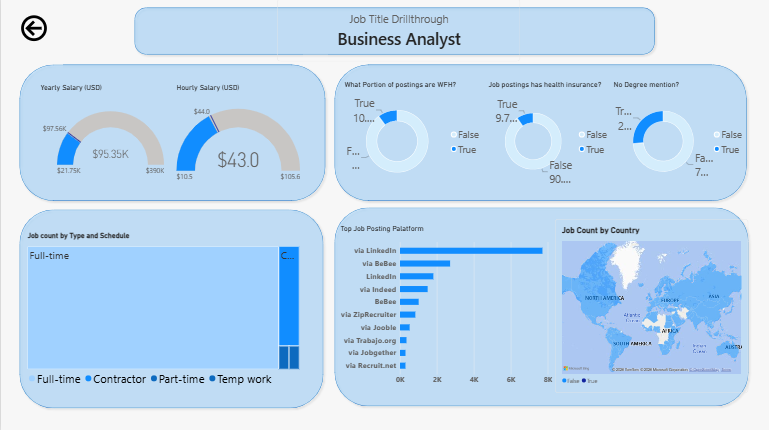

The dashboard page shown, as its layout file describes it:
{"tool":"powerbi","page":{"name":"Job Drillthrough","canvas":[1920,1080],"ordinal":1},"visuals":[{"type":"shape","box":[324.9,14.8,1318.1,135.2],"z":0,"group":"g4"},{"type":"actionButton","box":[7.5,17.5,150,115],"z":0},{"type":"shape","box":[825.1,156.7,1047.9,358.7],"z":0,"group":"g5"},{"type":"group","id":"g1","title":"Group 4","box":[825.1,515.4,1052.8,514.6],"z":0,"group":"g2"},{"type":"group","id":"g2","title":"Group 8","box":[36.9,156.7,1841.1,876],"z":1000},{"type":"group","id":"g3","title":"Group 6","box":[36.9,156.7,783.4,876],"z":1000,"group":"g2"},{"type":"shape","box":[36.9,518.1,777.4,514.6],"z":1000,"group":"g9"},{"type":"group","id":"g4","title":"Group 9","box":[324.9,1.5,1318.1,156.2],"z":2000},{"type":"shape","box":[38,156.7,782.3,358.7],"z":2000,"group":"g3"},{"type":"group","id":"g5","title":"Group 7","box":[825.1,156.7,1052.8,358.7],"z":2000,"group":"g2"},{"type":"gauge","title":"Yearly Salary (USD)","fields":{"MaxValue":["Max(job_postings_flat.salary_year_avg)"],"MinValue":["Min(job_postings_flat.salary_year_avg)1"],"Y":["Median(job_postings_flat.salary_year_avg)2"],"TargetValue":["Avg(job_postings_flat.salary_year_avg)3"]},"box":[83.1,198.9,341.2,296.9],"z":3000,"group":"g6"},{"type":"shape","box":[825.1,515.4,1052.8,514.6],"z":3000,"group":"g1"},{"type":"cardVisual","fields":{"Data":["Min(job_postings_flat.job_title_short)"]},"box":[689.9,1.5,608.8,156.2],"z":4000,"group":"g4"},{"type":"gauge","title":"Hourly Salary (USD)","fields":{"Y":["Median(job_postings_flat.salary_hour_avg)"],"MinValue":["Min(job_postings_flat.salary_hour_avg)1"],"MaxValue":["Max(job_postings_flat.salary_hour_avg)2"],"TargetValue":["Avg(job_postings_flat.salary_hour_avg)3"]},"box":[424.3,198.9,341.2,296.9],"z":4000,"group":"g6"},{"type":"donutChart","title":"What Portion of postings are WFH?","fields":{"Category":["job_postings_flat.job_work_from_home"],"Y":["CountNonNull(job_postings_flat.job_work_from_home)"]},"box":[842.2,191.3,377,296.1],"z":5000,"group":"g7"},{"type":"donutChart","title":"No Degree mention?","fields":{"Category":["job_postings_flat.job_no_degree_mention"],"Y":["CountNonNull(job_postings_flat.job_no_degree_mention)"]},"box":[1515.8,192.1,362.2,296.1],"z":6000,"group":"g7"},{"type":"treemap","title":"Job count by Type and Schedule","fields":{"Group":["job_postings_flat.job_schedule_type"],"Values":["CountNonNull(job_postings_flat.job_schedule_type)"]},"box":[49.1,567.6,711.6,418.1],"z":6000,"group":"g9"},{"type":"donutChart","title":"Job postings has health insurance?","fields":{"Category":["job_postings_flat.job_health_insurance"],"Y":["CountNonNull(job_postings_flat.job_health_insurance)"]},"box":[1202.8,191.3,337.2,296.1],"z":7000,"group":"g7"},{"type":"filledMap","title":"Job Count by Country","fields":{"Category":["job_postings_flat.job_country"],"Series":["job_postings_flat.job_no_degree_mention"]},"box":[1384.2,551.7,482.5,435],"z":7000,"group":"g8"},{"type":"barChart","title":"Top Job Posting Palatform","fields":{"Category":["job_postings_flat.job_via"],"Y":["CountNonNull(job_postings_flat.job_via)"]},"box":[831.7,551.7,561.5,434.8],"z":8000,"group":"g8"},{"type":"group","id":"g6","title":"Group 1","box":[83.1,198.9,682.4,296.9],"z":9000,"group":"g3"},{"type":"group","id":"g7","title":"Group 2","box":[842.2,191.3,1035.8,296.9],"z":10000,"group":"g5"},{"type":"group","id":"g8","title":"Group 3","box":[831.7,551.7,1035,435],"z":10001,"group":"g1"},{"type":"group","id":"g9","title":"Group 5","box":[36.9,518.1,777.4,514.6],"z":10003,"group":"g3"}]}

Visuals, with their boxes in screenshot pixels (x1, y1, x2, y2), scaled from the page's 1920x1080 canvas onto the 769x430 screenshot:
shape: x1=130, y1=6, x2=658, y2=60
actionButton: x1=3, y1=7, x2=63, y2=53
shape: x1=330, y1=62, x2=750, y2=205
"Group 4" group: x1=330, y1=205, x2=752, y2=410
"Group 8" group: x1=15, y1=62, x2=752, y2=411
"Group 6" group: x1=15, y1=62, x2=329, y2=411
shape: x1=15, y1=206, x2=326, y2=411
"Group 9" group: x1=130, y1=1, x2=658, y2=63
shape: x1=15, y1=62, x2=329, y2=205
"Group 7" group: x1=330, y1=62, x2=752, y2=205
"Yearly Salary (USD)" gauge: x1=33, y1=79, x2=170, y2=197
shape: x1=330, y1=205, x2=752, y2=410
cardVisual - Min(job_postings_flat.job_title_short): x1=276, y1=1, x2=520, y2=63
"Hourly Salary (USD)" gauge: x1=170, y1=79, x2=307, y2=197
"What Portion of postings are WFH?" donutChart: x1=337, y1=76, x2=488, y2=194
"No Degree mention?" donutChart: x1=607, y1=76, x2=752, y2=194
"Job count by Type and Schedule" treemap: x1=20, y1=226, x2=305, y2=392
"Job postings has health insurance?" donutChart: x1=482, y1=76, x2=617, y2=194
"Job Count by Country" filledMap: x1=554, y1=220, x2=748, y2=393
"Top Job Posting Palatform" barChart: x1=333, y1=220, x2=558, y2=393
"Group 1" group: x1=33, y1=79, x2=307, y2=197
"Group 2" group: x1=337, y1=76, x2=752, y2=194
"Group 3" group: x1=333, y1=220, x2=748, y2=393
"Group 5" group: x1=15, y1=206, x2=326, y2=411
